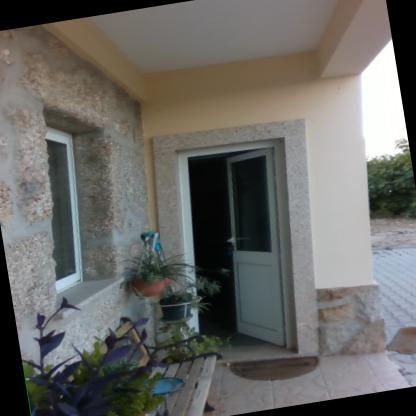semi: (147, 126, 329, 370)
